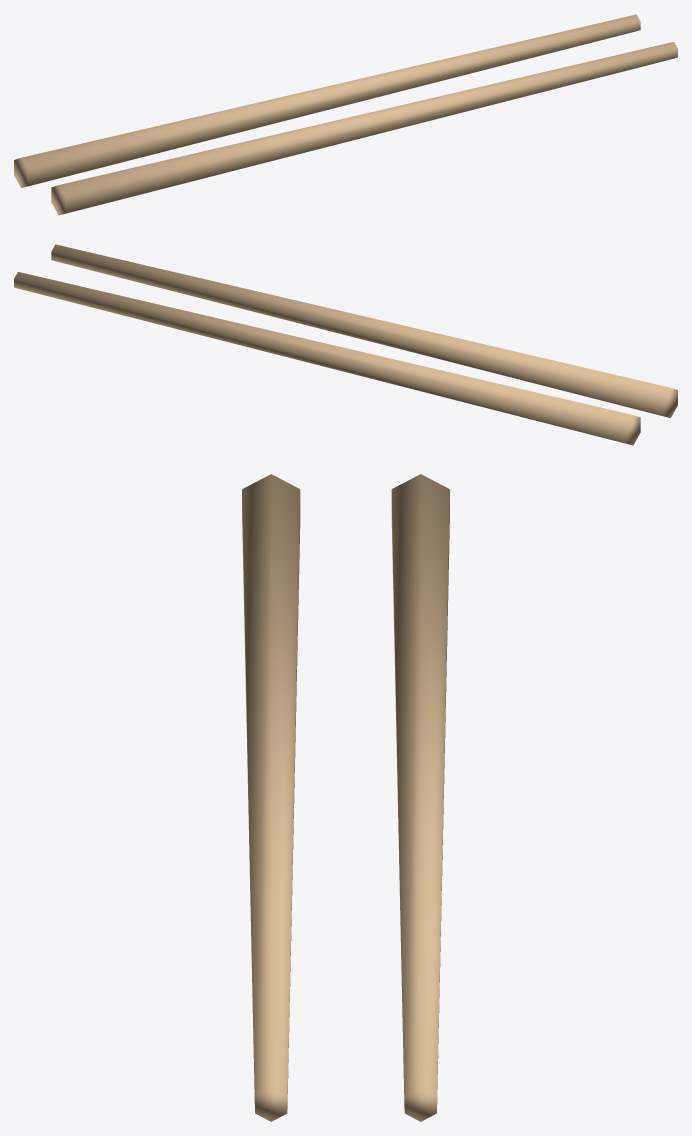
The model's file is prop-drumstick-pair.fbx.
3 renders of one model, top to bottom at view 1: azimuth 30°, elevation 25°; view 2: azimuth 150°, elevation 25°; view 3: azimuth 270°, elevation 25°, orthographic. The views are drawn at different scales.
Parts seen in each view (by area): view 1: prop-drumstick-pair; view 2: prop-drumstick-pair; view 3: prop-drumstick-pair.
Boxes of the visible parts, x1,y1,x2,y2 form: prop-drumstick-pair: [14, 14, 677, 215]; prop-drumstick-pair: [14, 244, 677, 445]; prop-drumstick-pair: [242, 474, 449, 1121].
Bounding box in the file's own units: 38 × 1.8 × 5.56.
